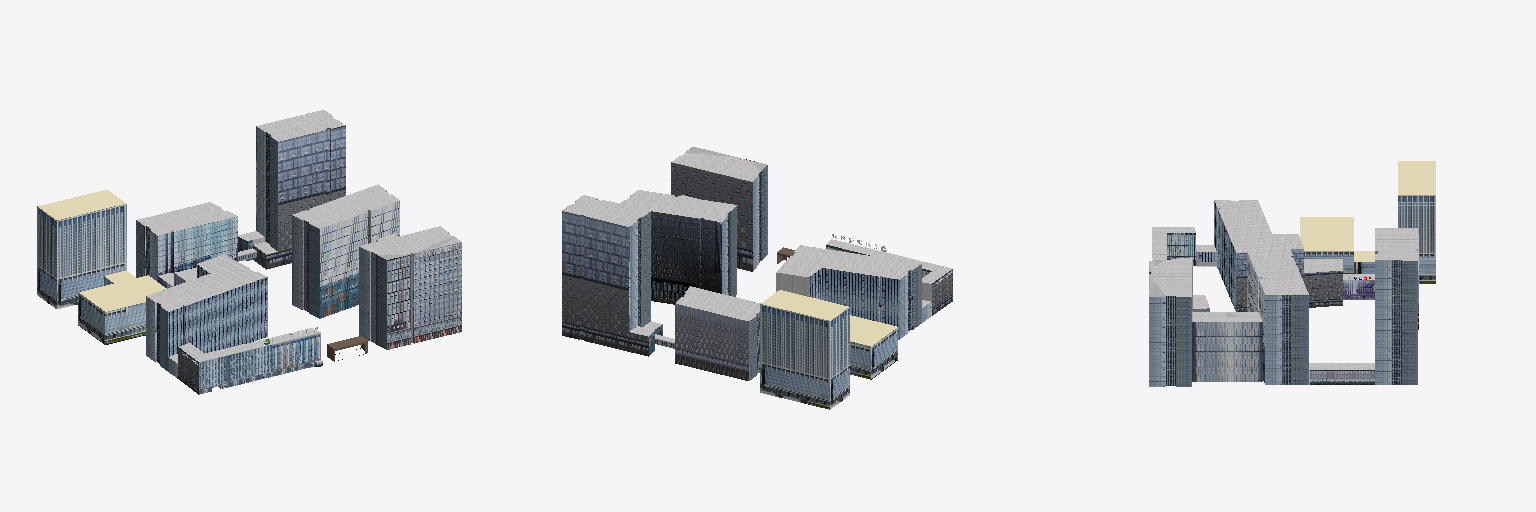
3 renders of one model, left to right at view 1: azimuth 30°, elevation 25°; view 2: azimuth 150°, elevation 25°; view 3: azimuth 270°, elevation 25°, orthographic.
Visible parts, largest first — view 1: Mesh21, Group4, Mesh96, A_C62B562F, A_C2AAF62D, Mesh06; view 2: Mesh21, A_C62B562F, Group4, A_C2AAF62D, Mesh96, Mesh06; view 3: Mesh96, Mesh21, A_C2AAF62D, A_C62B562F, Group4, Mesh06, Mesh04.
Part boxes in pixels (x1,y1,x2,y2): Mesh21: (136,202,267,378); Group4: (37,190,166,344); Mesh96: (359,226,461,349); A_C62B562F: (238,110,345,269); A_C2AAF62D: (292,184,399,318); Mesh06: (178,328,322,394); Mesh21: (675,245,931,380); A_C62B562F: (562,195,662,356); Group4: (760,290,897,409); A_C2AAF62D: (620,190,736,304); Mesh96: (671,147,767,271); Mesh06: (826,239,952,315); Mesh96: (1149,257,1262,386); Mesh21: (1196,200,1418,329); A_C2AAF62D: (1247,248,1308,384); A_C62B562F: (1375,228,1417,384); Group4: (1300,161,1435,283); Mesh06: (1152,227,1209,311); Mesh04: (1309,363,1374,384).
Size of the model in its own units: 9279 by 3937 by 8942.
Materials: 38 (24 with a texture image).